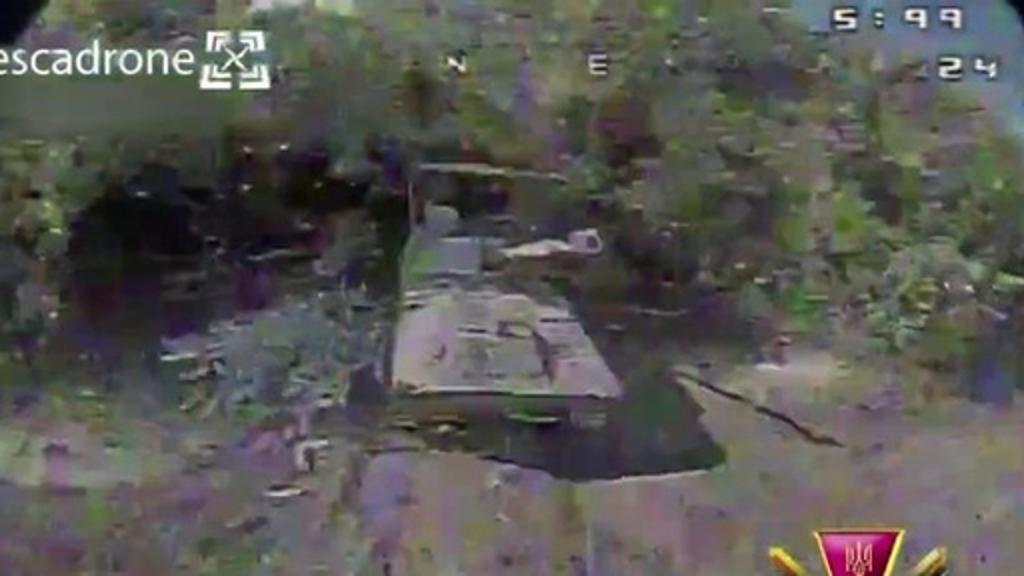ART: (384, 210, 630, 446)
